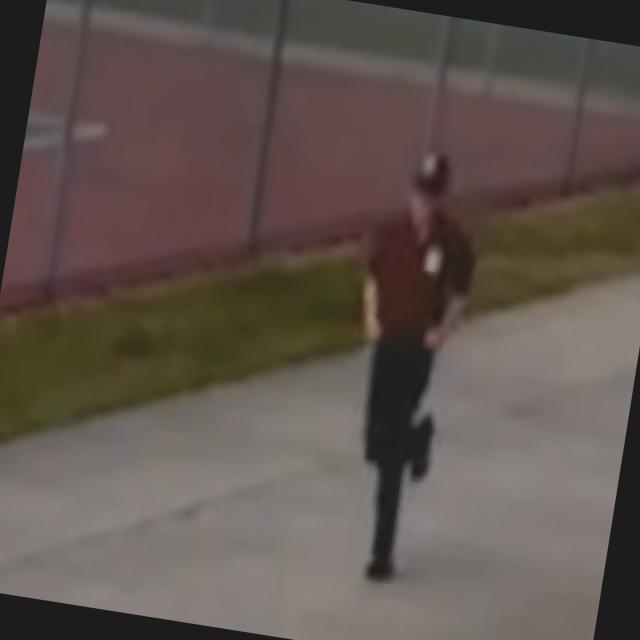person: (314, 142, 492, 590)
